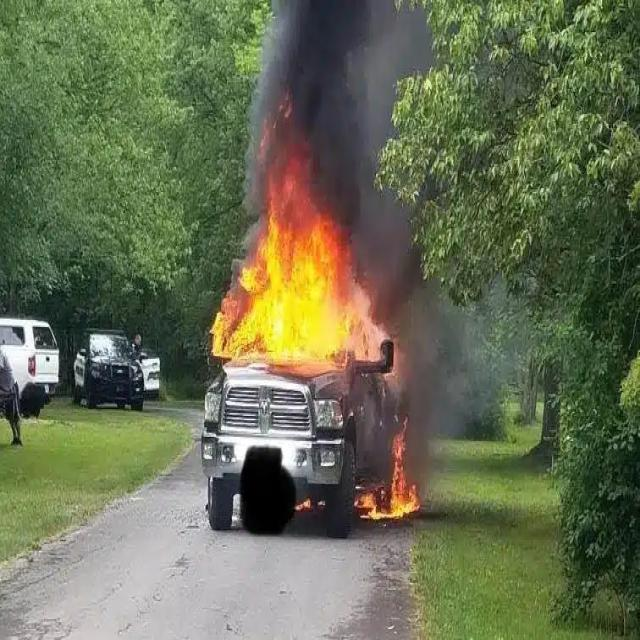Fire: (212, 156, 360, 365), (354, 433, 421, 520)
Smoke: (238, 0, 526, 430)
